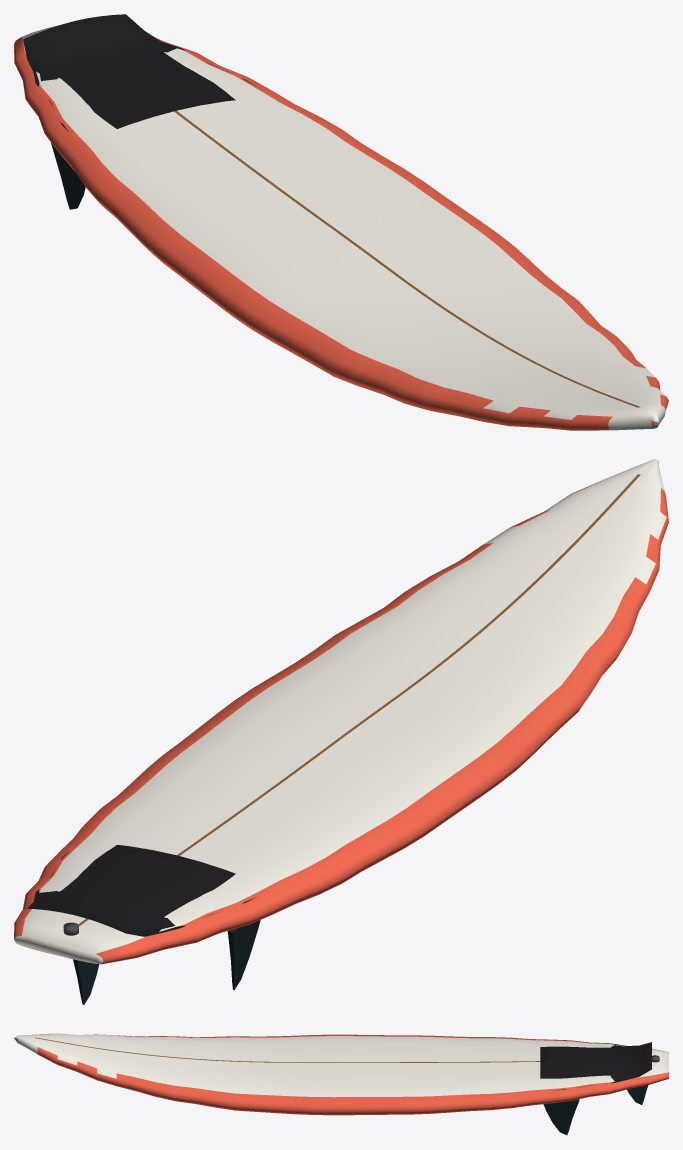
File: board_pro.glb
3 renders of one model, top to bottom at view 1: azimuth 30°, elevation 25°; view 2: azimuth 150°, elevation 25°; view 3: azimuth 270°, elevation 25°, orthographic. The views are drawn at different scales.
Visible parts, largest first — view 1: Board; view 2: Board; view 3: Board.
Boxes of the visible parts, left/top/right/bottom form: Board: left=14, top=14, right=668, bottom=430; Board: left=14, top=459, right=668, bottom=1004; Board: left=14, top=1033, right=668, bottom=1135.
Size of the model in its own units: 0.488 by 0.2397 by 1.83.
